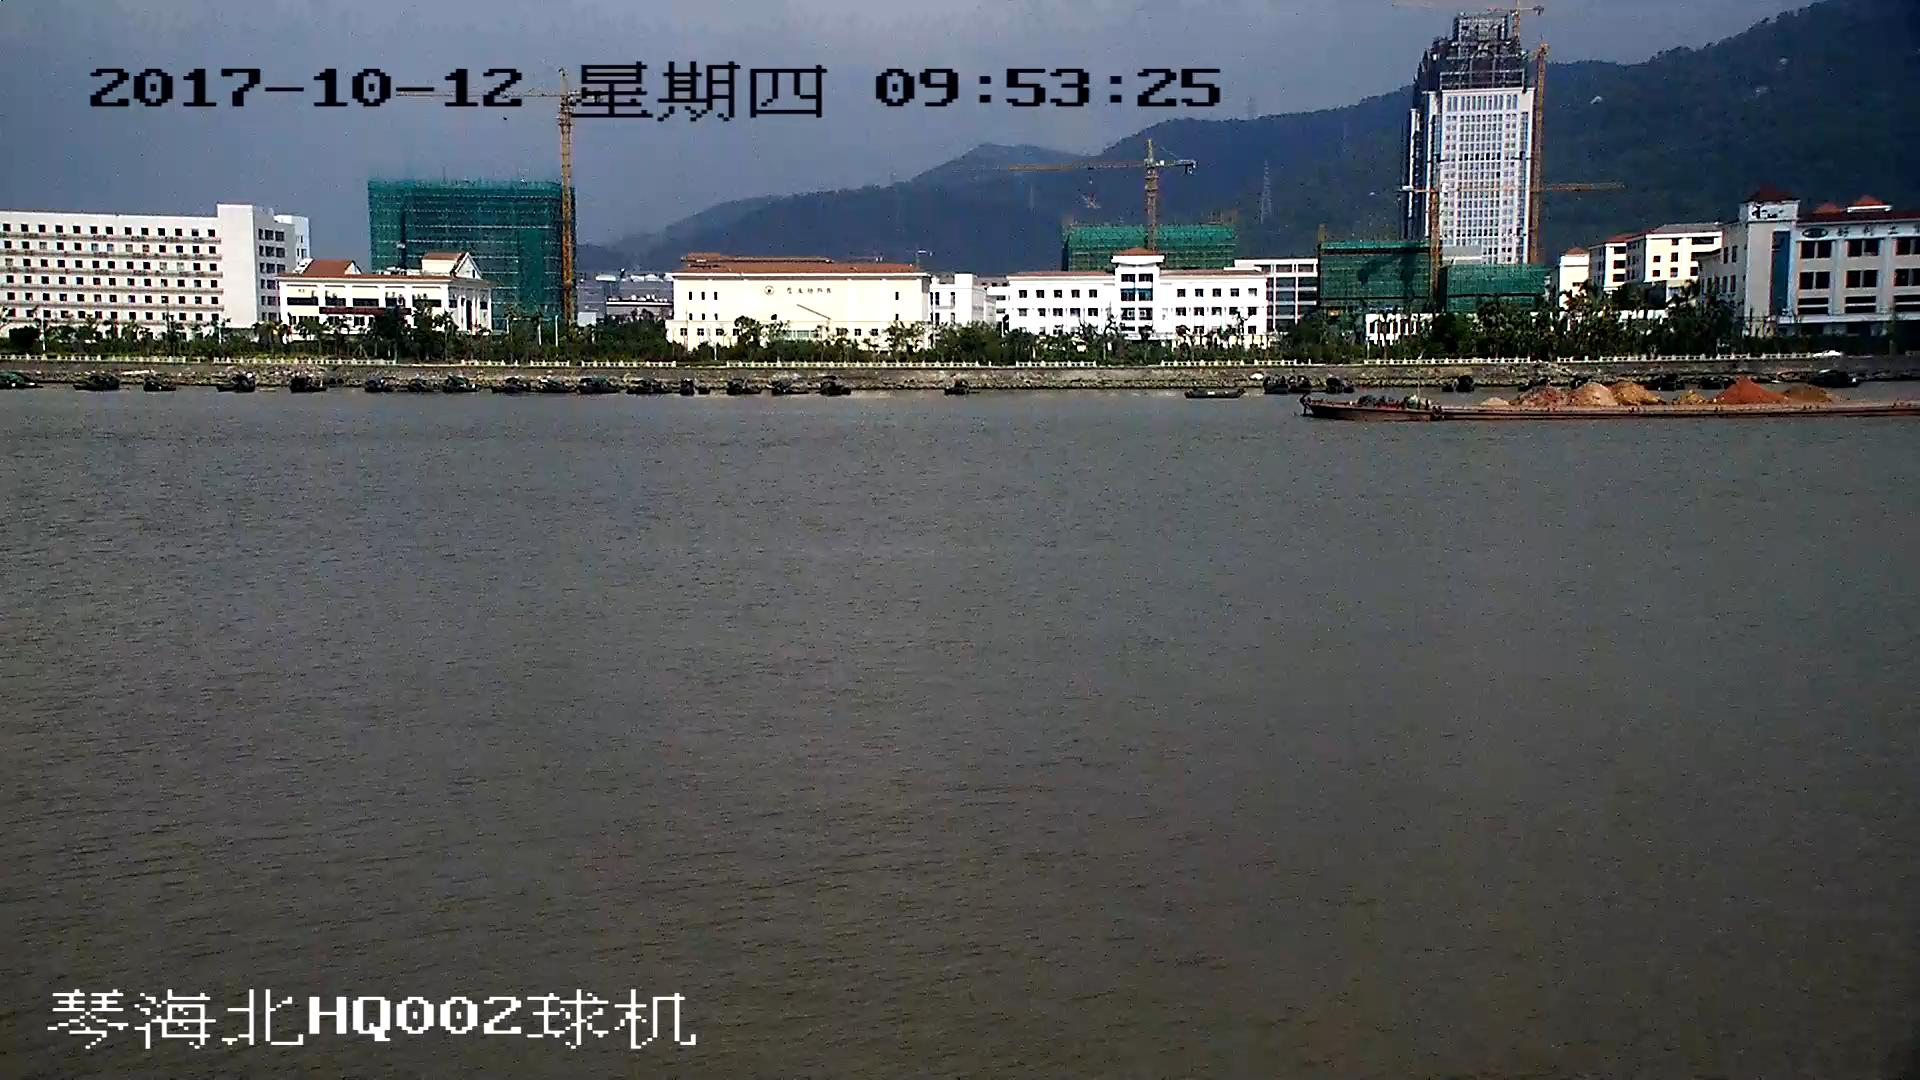ore carrier: (1304, 376, 1920, 421)
